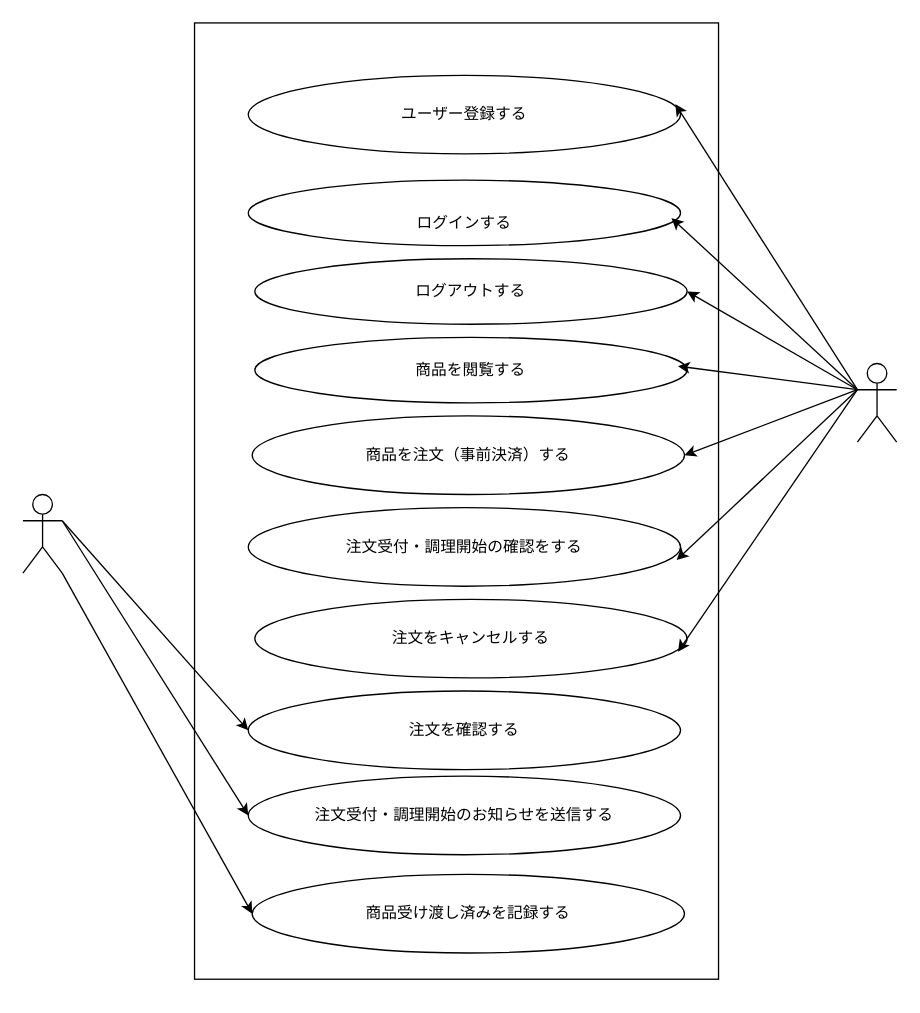
Some shapes in this 920 by 1013 pixel diagram are drawn without their labels. The shapes that lost their labels are listed below. From the top down, each one's box as (x1, y1, x2, y2) in pixels, then its label:
(856, 362, 897, 442): Actor
(193, 22, 719, 979): モバイルオーダーアプリ
(22, 493, 62, 573): 店員
